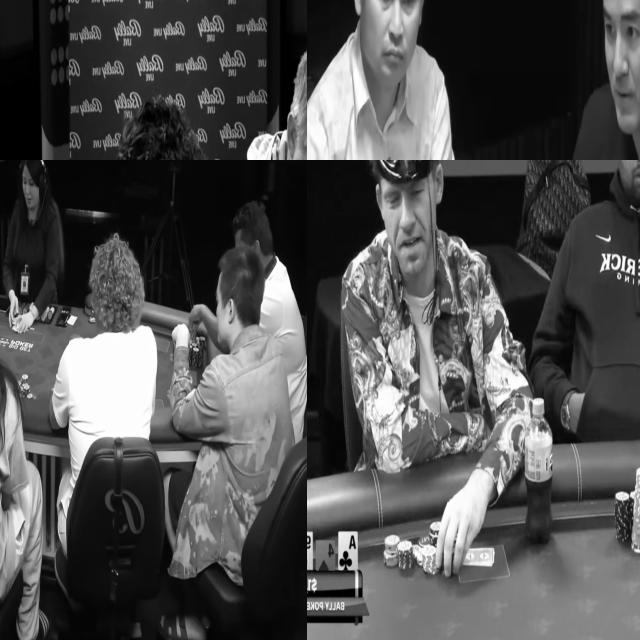4D: (316, 541, 335, 571)
9C: (307, 531, 312, 570)
AC: (339, 532, 357, 571)
